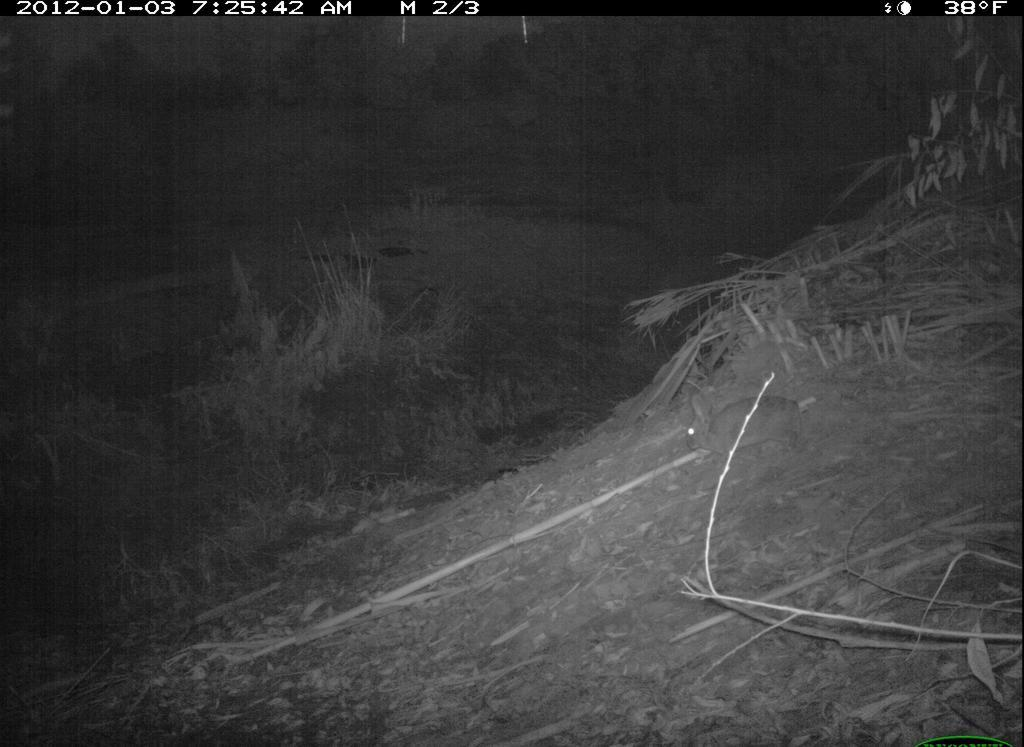rabbit: (675, 383, 817, 473)
